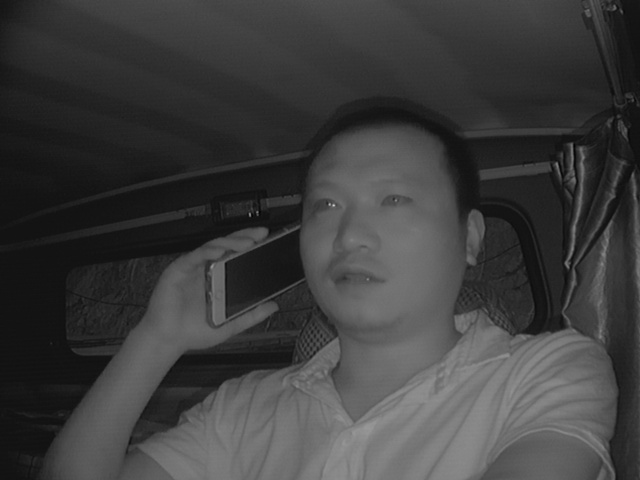hand: (168, 225, 271, 358)
